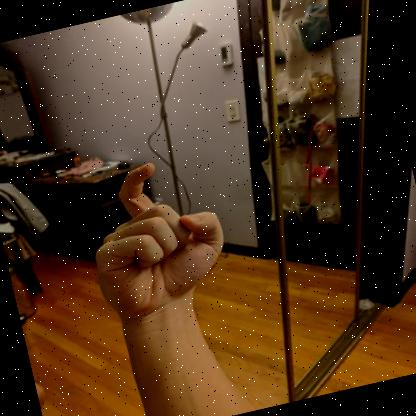X: (95, 163, 224, 325)
